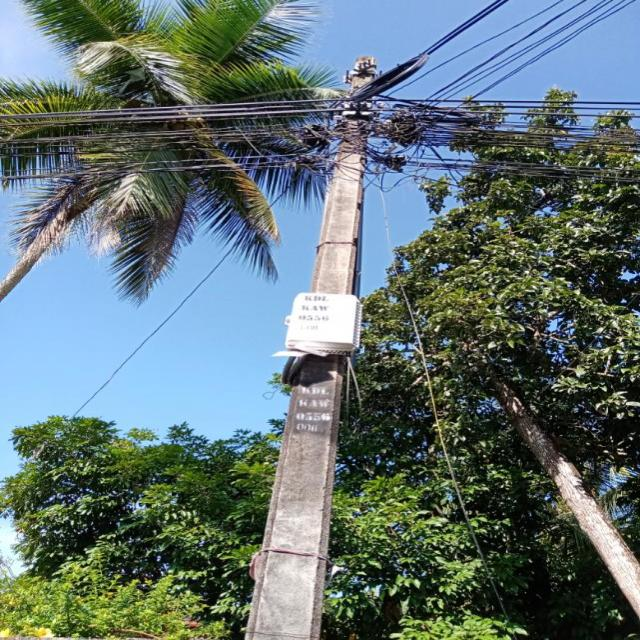light_pole: (238, 63, 401, 640)
